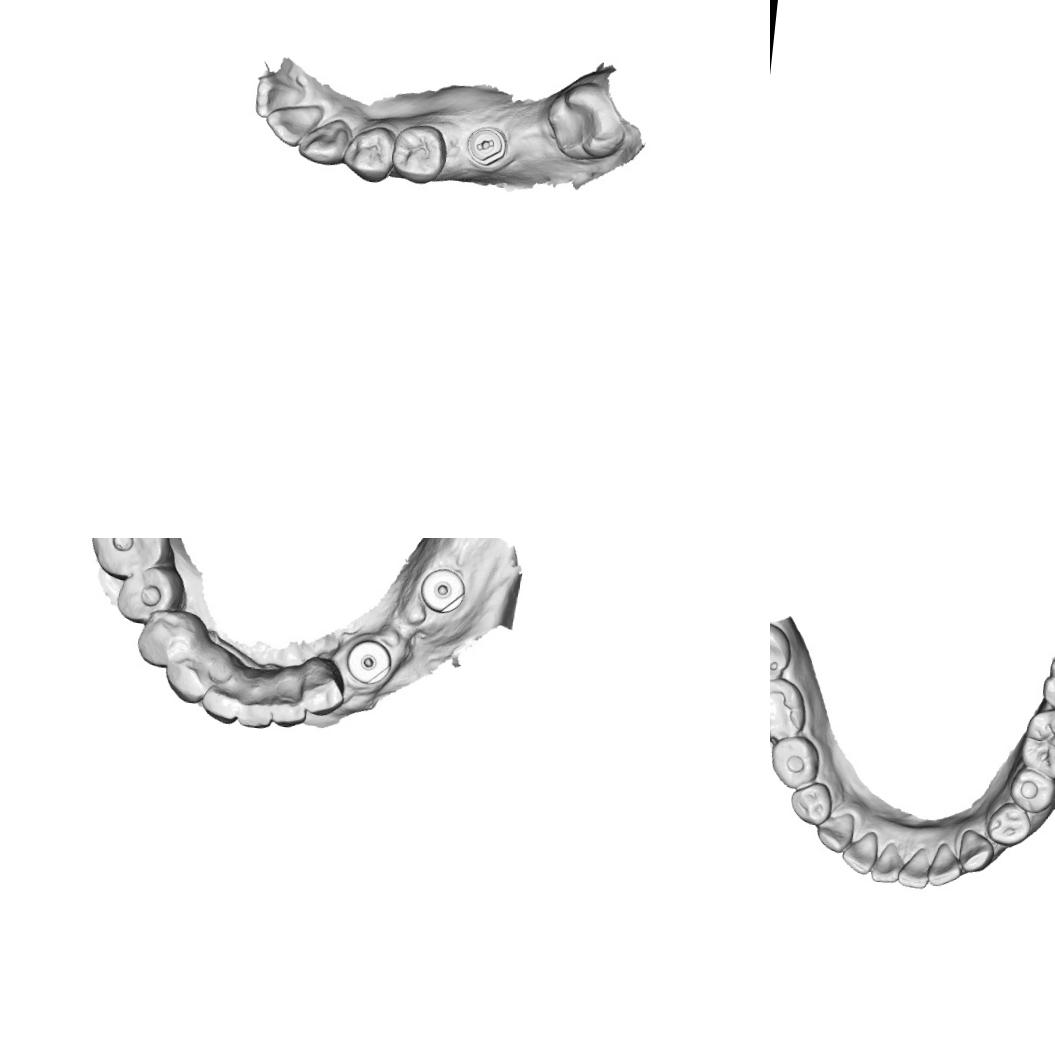canine: (296, 111, 355, 169), (162, 647, 220, 705), (956, 827, 997, 876), (814, 810, 856, 855)
implant: (417, 565, 471, 616), (343, 637, 396, 688)
implant_minus: (464, 122, 510, 168)
incisor: (262, 98, 326, 149), (252, 72, 310, 123), (233, 680, 279, 732), (198, 675, 244, 726), (302, 670, 346, 720), (268, 682, 310, 731), (840, 828, 880, 876), (926, 841, 964, 889), (896, 845, 932, 890), (869, 840, 903, 885)
molar: (540, 78, 625, 168), (85, 538, 174, 585), (1017, 705, 1055, 782), (770, 673, 810, 745), (770, 619, 794, 688), (1039, 650, 1055, 718)
premolar: (112, 561, 186, 627), (133, 605, 203, 672), (389, 120, 451, 190), (340, 121, 398, 186), (770, 732, 822, 791), (1006, 765, 1055, 816), (984, 800, 1034, 848), (788, 778, 834, 827)
